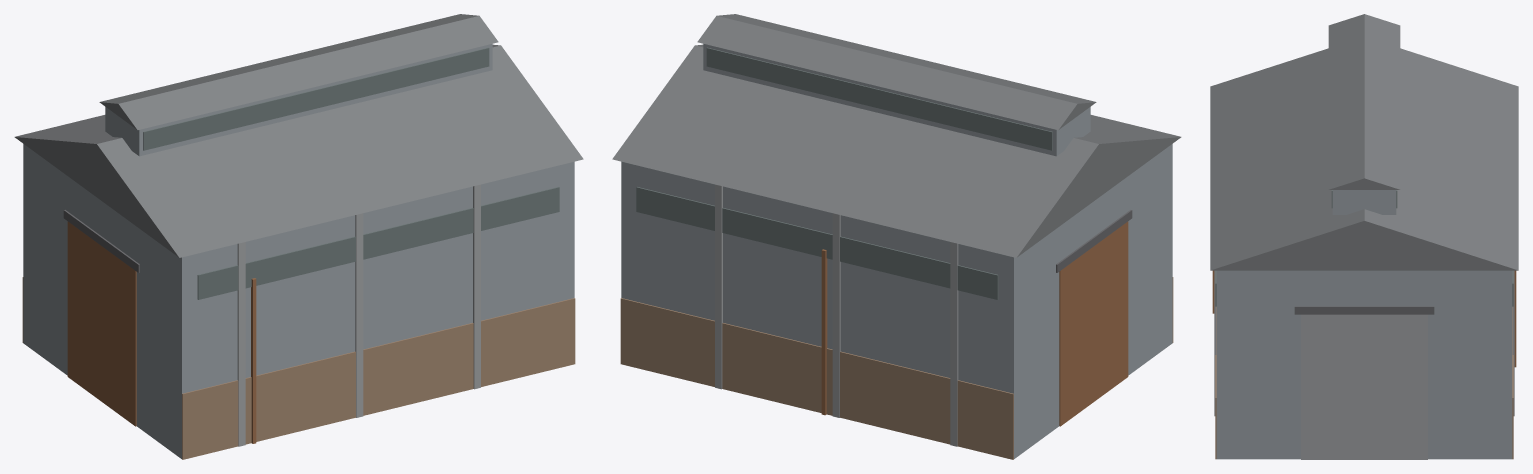
File: MillShedShort.glb
3 renders of one model, left to right at view 1: azimuth 30°, elevation 25°; view 2: azimuth 150°, elevation 25°; view 3: azimuth 270°, elevation 25°, orthographic. The views are drawn at different scales.
Visible parts, largest first — view 1: Shed walls.001, Shed roof.001, Rust band.002, Monitor roof.001, Bay door.002, Clerestory.002, Monitor glazing.003, Monitor.001, Column.012, Column.013, Column.014, Downpipe.004 (+1 smaller); view 2: Shed walls.001, Shed roof.001, Rust band.003, Monitor roof.001, Bay door.002, Clerestory.003, Monitor glazing.002, Monitor.001, Column.015, Column.016, Column.017, Downpipe.005 (+1 smaller); view 3: Shed roof.001, Shed walls.001, Bay door.003, Monitor roof.001, Monitor.001, Door header.003, Column.014, Column.017.
Part boxes in pixels (left/top/right/bottom): Shed walls.001: left=23, top=144, right=574, bottom=458; Shed roof.001: left=14, top=44, right=583, bottom=257; Rust band.002: left=182, top=298, right=575, bottom=459; Monitor roof.001: left=99, top=14, right=498, bottom=130; Bay door.002: left=67, top=221, right=136, bottom=426; Clerestory.002: left=197, top=187, right=559, bottom=299; Monitor glazing.003: left=143, top=47, right=489, bottom=150; Monitor.001: left=105, top=43, right=492, bottom=156; Column.012: left=237, top=242, right=245, bottom=446; Column.013: left=355, top=213, right=363, bottom=417; Column.014: left=473, top=184, right=480, bottom=389; Downpipe.004: left=251, top=278, right=256, bottom=443; Shed walls.001: left=621, top=144, right=1172, bottom=458; Shed roof.001: left=612, top=44, right=1181, bottom=257; Rust band.003: left=620, top=298, right=1013, bottom=459; Monitor roof.001: left=697, top=14, right=1096, bottom=130; Bay door.002: left=1059, top=221, right=1128, bottom=426; Clerestory.003: left=636, top=187, right=998, bottom=299; Monitor glazing.002: left=706, top=47, right=1052, bottom=150; Monitor.001: left=703, top=43, right=1090, bottom=156; Column.015: left=950, top=242, right=958, bottom=446; Column.016: left=832, top=213, right=840, bottom=417; Column.017: left=715, top=184, right=722, bottom=389; Downpipe.005: left=821, top=249, right=827, bottom=415; Shed roof.001: left=1210, top=48, right=1518, bottom=270; Shed walls.001: left=1216, top=270, right=1512, bottom=459; Bay door.003: left=1301, top=314, right=1427, bottom=459; Monitor roof.001: left=1328, top=14, right=1400, bottom=189; Monitor.001: left=1332, top=190, right=1396, bottom=214; Door header.003: left=1294, top=306, right=1434, bottom=314; Column.014: left=1214, top=270, right=1216, bottom=416; Column.017: left=1512, top=270, right=1514, bottom=416.
Bounding box in the file's own units: 20.6 × 14.3 × 14.6.
